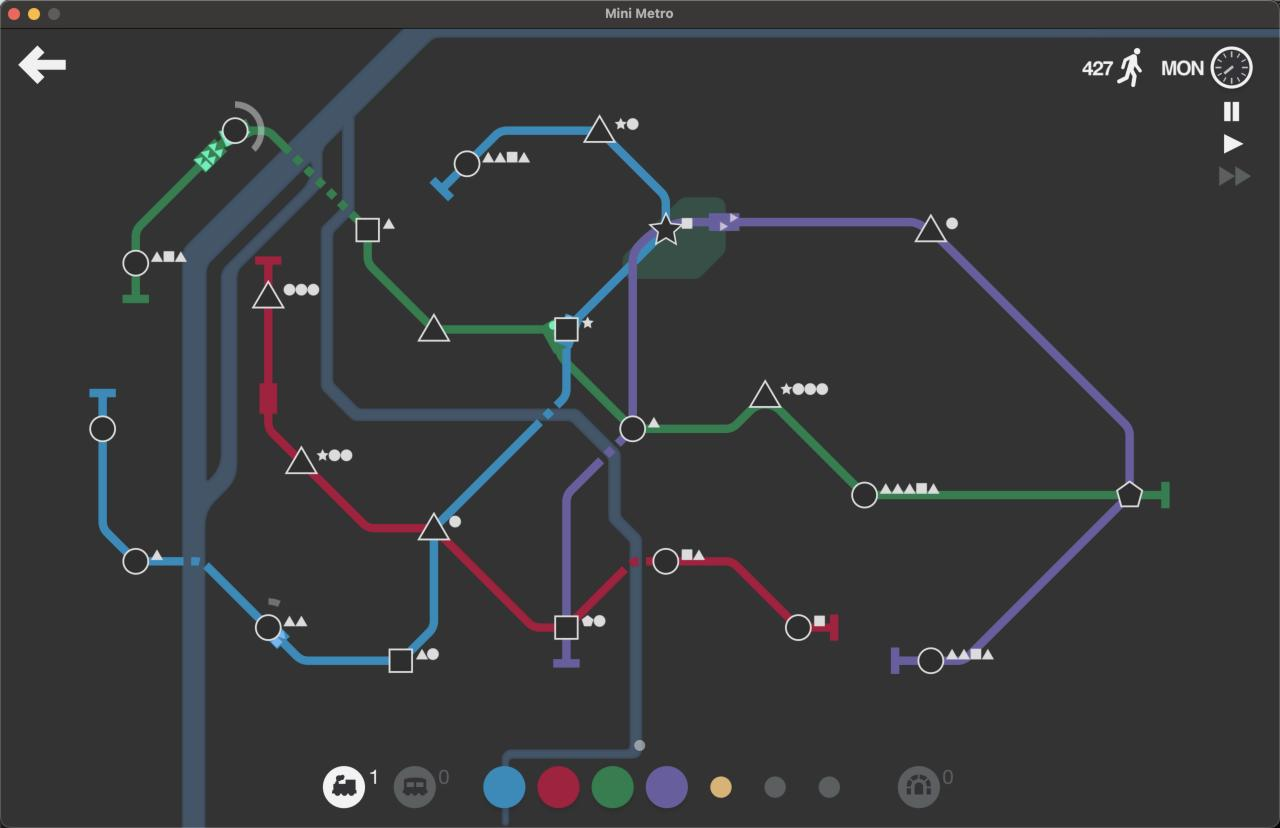CIRCLE: (254, 613, 283, 642), (618, 415, 647, 444), (851, 480, 879, 510), (221, 116, 249, 146), (917, 646, 945, 675), (784, 613, 812, 642), (122, 547, 150, 575), (652, 547, 680, 575), (89, 415, 117, 443), (122, 249, 150, 277), (454, 149, 481, 178)
PENTAGON: (1116, 480, 1144, 508)
SQUARE: (553, 315, 581, 344), (354, 217, 381, 243), (554, 614, 580, 641), (388, 647, 414, 674)
STAR: (647, 214, 682, 246)
TRIANGLE: (416, 510, 453, 542), (416, 311, 451, 344), (285, 444, 318, 476), (582, 114, 617, 144), (914, 213, 948, 243), (251, 280, 285, 309), (749, 379, 781, 409), (382, 218, 395, 230)
